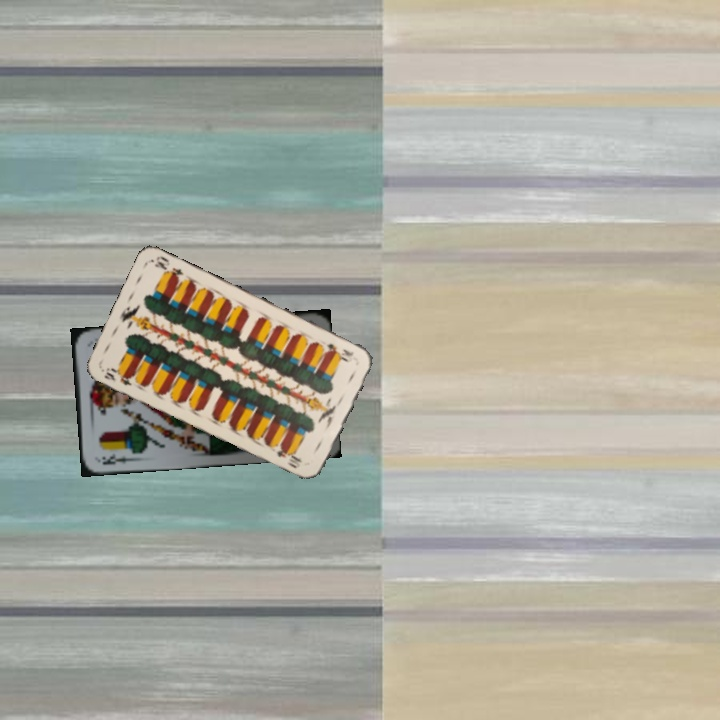E10: (100, 363, 139, 388), (322, 339, 356, 363)
EK: (98, 450, 136, 468)
